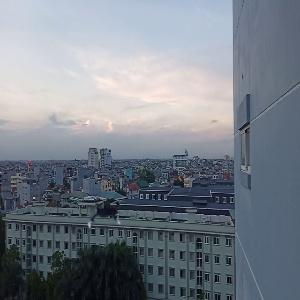drone: (83, 190, 134, 241)
